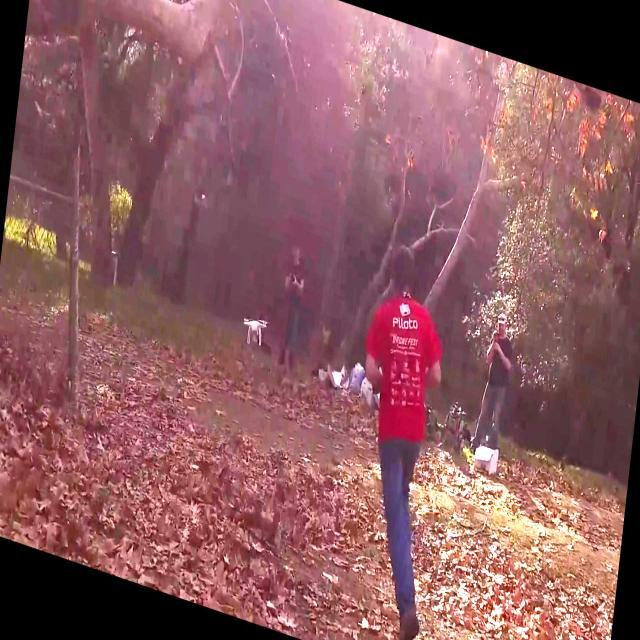drone: (236, 304, 271, 352)
